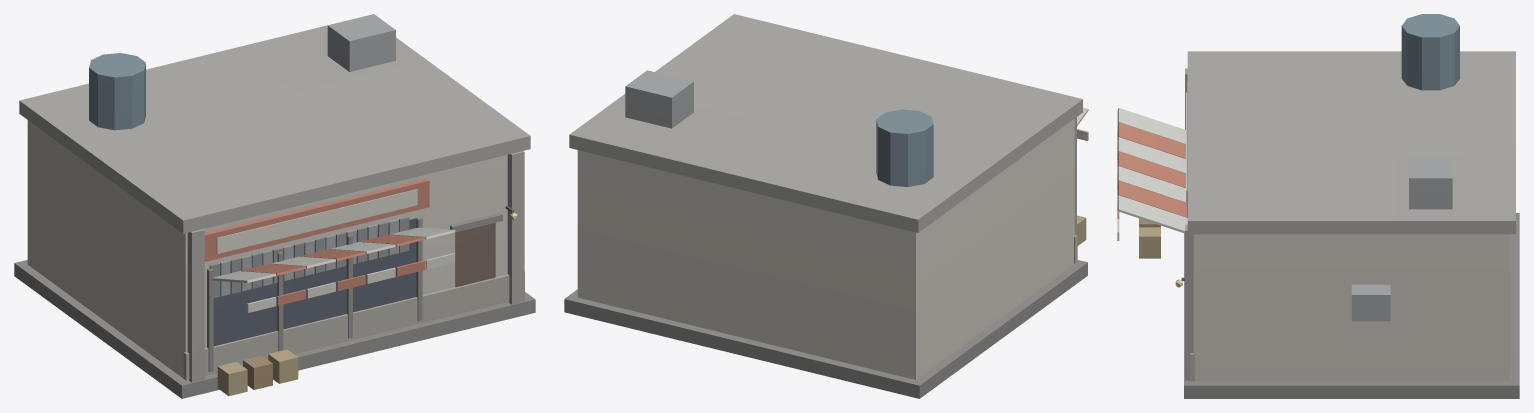
The model's file is sv_shop_a.glb.
3 views of the same model, side by side, from view 1: azimuth 30°, elevation 25°; view 2: azimuth 150°, elevation 25°; view 3: azimuth 270°, elevation 25° (orthographic).
Parts seen in each view (by area): view 1: sv_shop_a; view 2: sv_shop_a; view 3: sv_shop_a.
Part boxes in pixels (bbox=[...]): sv_shop_a: bbox=[14, 14, 535, 398]; sv_shop_a: bbox=[564, 14, 1088, 398]; sv_shop_a: bbox=[1117, 14, 1519, 398].
Bounding box in the file's own units: 8.7 × 5.2 × 8.27.
